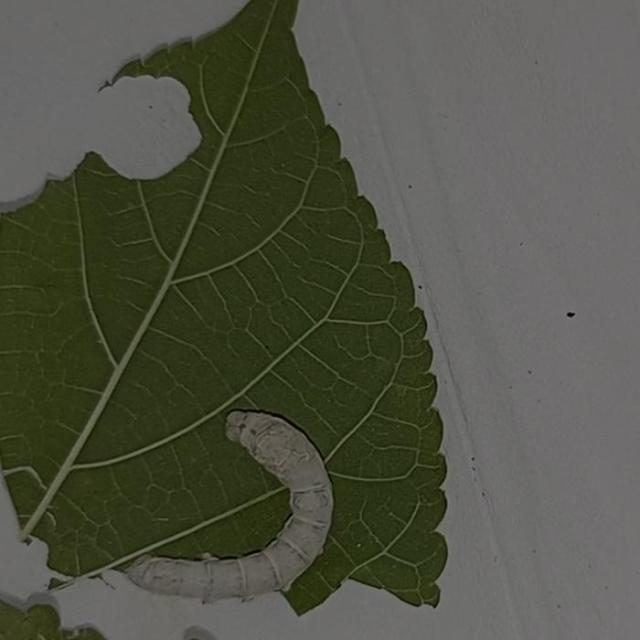Healthy: (110, 396, 356, 606)
